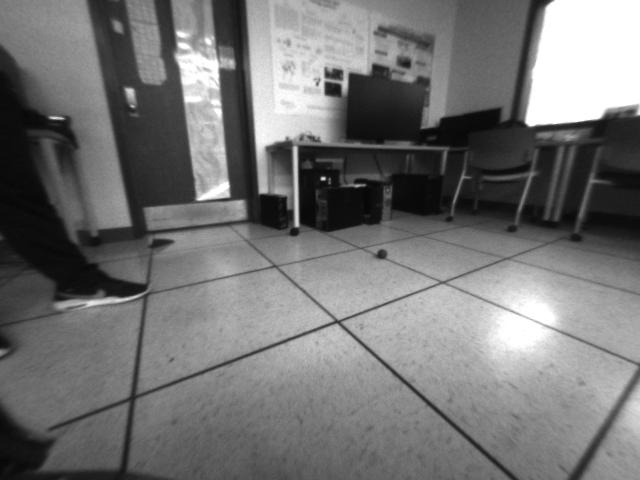dogtoy: (369, 242, 396, 262)
